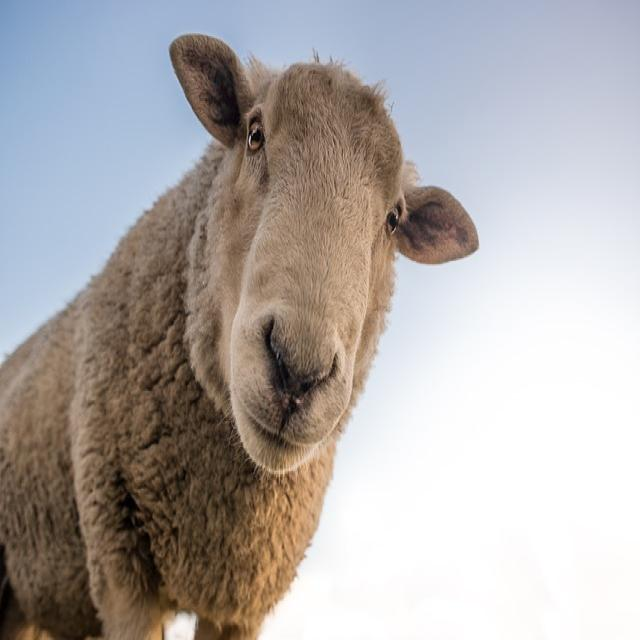goat: (0, 34, 478, 638)
